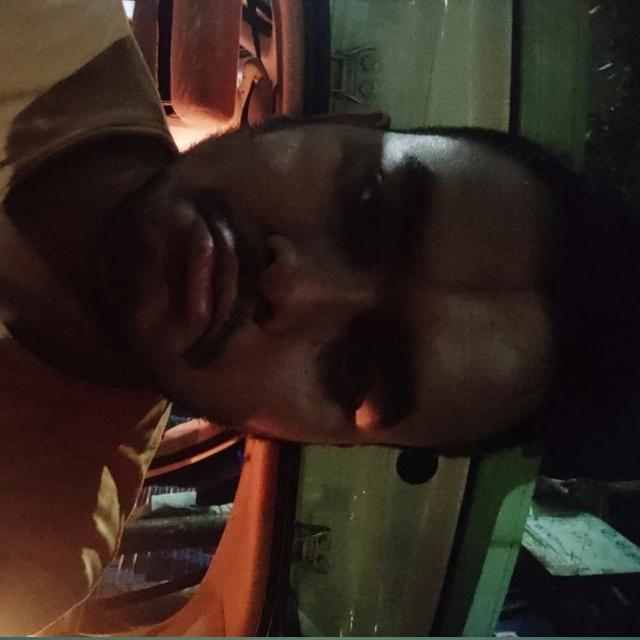Sad: (96, 107, 566, 452)
